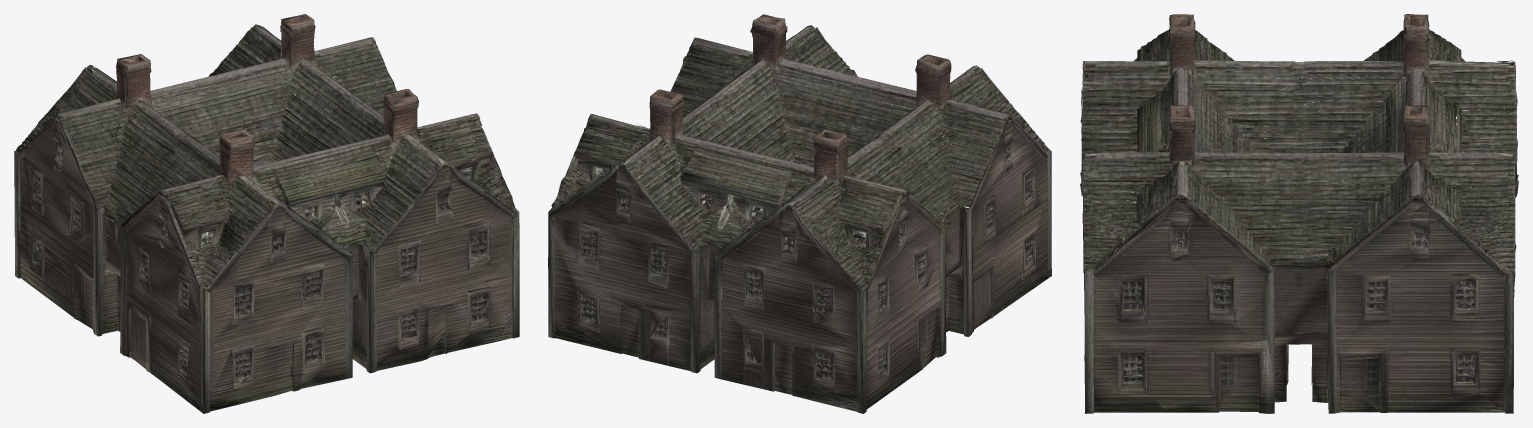
Rendered from skyline-cluster-c.glb.
3 renders of one model, left to right at view 1: azimuth 30°, elevation 25°; view 2: azimuth 150°, elevation 25°; view 3: azimuth 270°, elevation 25°, orthographic. The views are drawn at different scales.
Parts seen in each view (by area): view 1: Mesh_0; view 2: Mesh_0; view 3: Mesh_0.
Part boxes in pixels (x1,y1,x2,y2): Mesh_0: (14,14,519,413); Mesh_0: (548,14,1051,413); Mesh_0: (1080,14,1518,413).
Size of the model in its own units: 1.82 by 1.26 by 1.91.
Materials: 1 (1 with a texture image).
